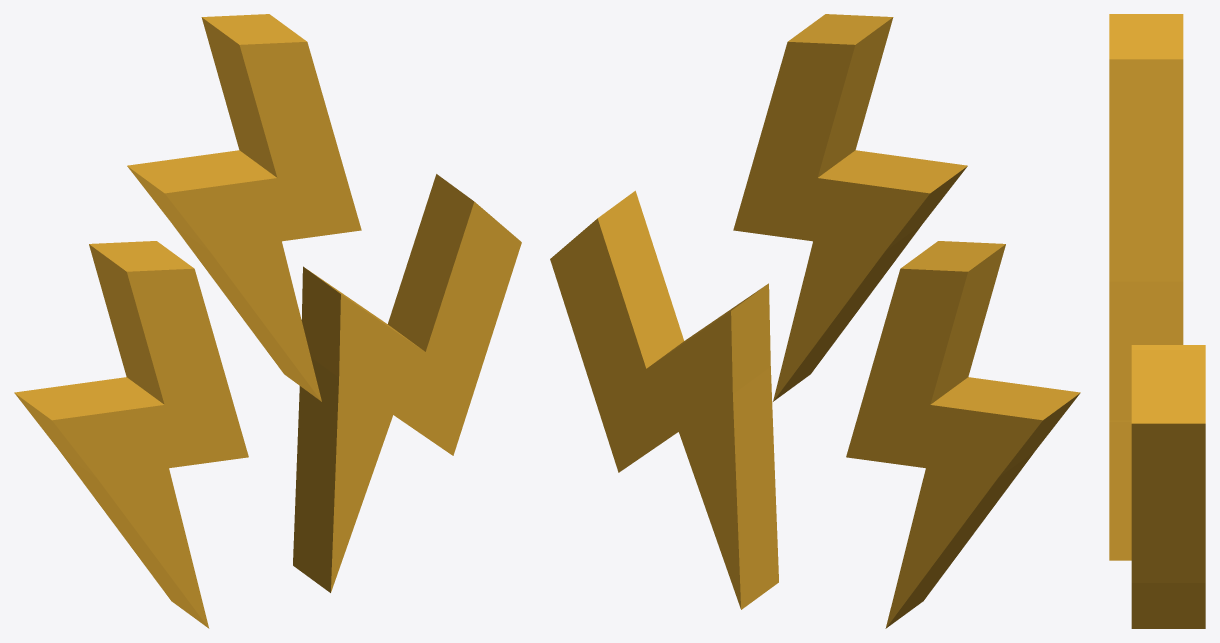
Rendered from energyPickup.fbx.
3 views of the same model, side by side, from view 1: azimuth 30°, elevation 25°; view 2: azimuth 150°, elevation 25°; view 3: azimuth 270°, elevation 25° (orthographic). The views are drawn at different scales.
Visible parts, largest first — view 1: ePickup; view 2: ePickup; view 3: ePickup.
Part boxes in pixels (bbox=[...]): ePickup: bbox=[14, 14, 521, 628]; ePickup: bbox=[550, 14, 1080, 628]; ePickup: bbox=[1109, 14, 1205, 628].
Bounding box in the file's own units: 2.57 × 2.97 × 0.4573.
